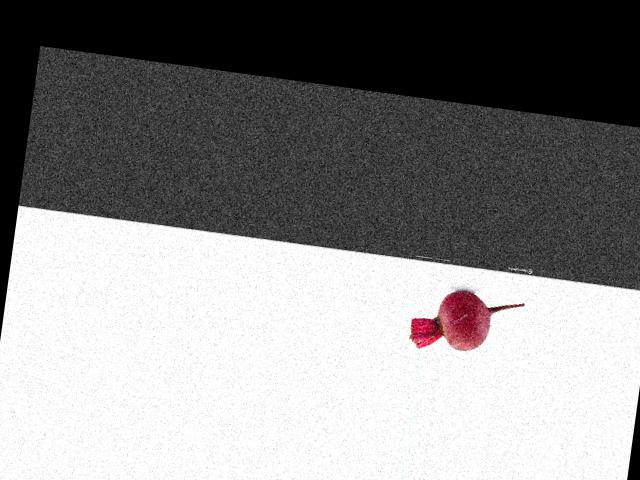beet: (407, 284, 524, 360)
